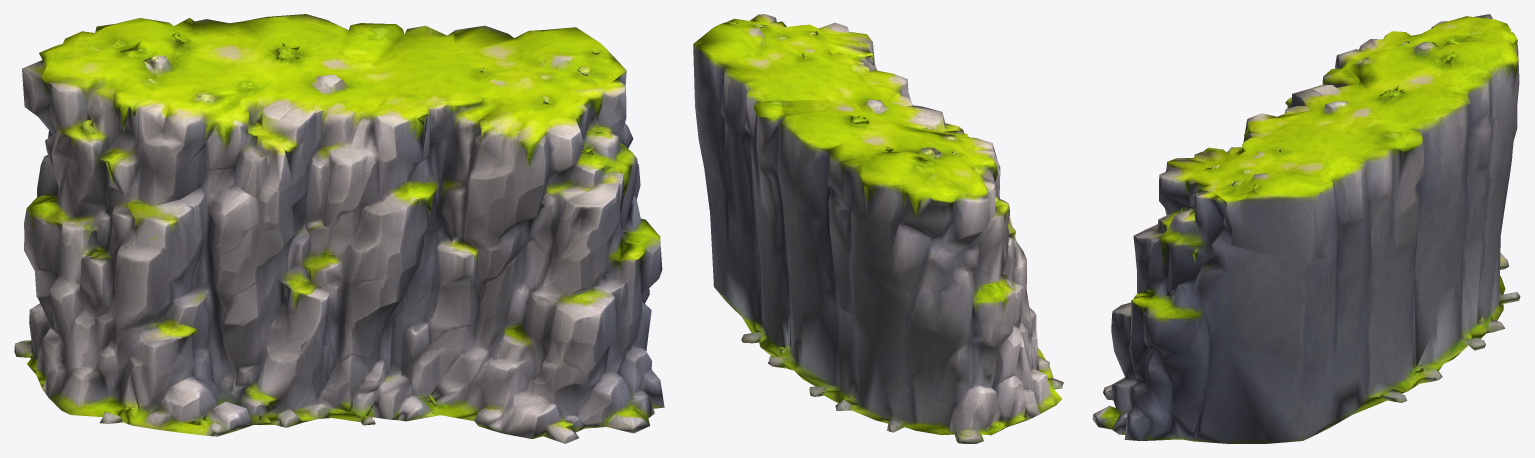
The picture shows the model from 3 angles, left to right: view 1: azimuth 30°, elevation 25°; view 2: azimuth 150°, elevation 25°; view 3: azimuth 270°, elevation 25°; orthographic projection. The views are drawn at different scales.
Parts seen in each view (by area): view 1: prop; view 2: prop; view 3: prop.
Part boxes in pixels (bbox=[...]): prop: bbox=[14, 14, 664, 443]; prop: bbox=[693, 14, 1063, 443]; prop: bbox=[1092, 14, 1520, 443].
Bounding box in the file's own units: 1.63 × 0.9961 × 1.48.
Materials: 1 (1 with a texture image).
